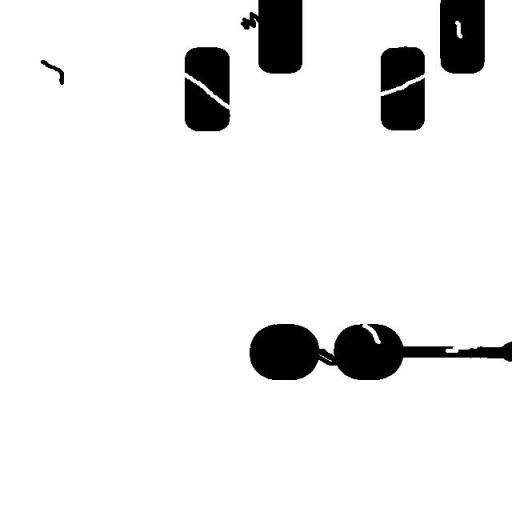copper: (33, 52, 71, 92)
mousebite: (354, 316, 388, 351), (438, 336, 484, 360)
open: (176, 64, 258, 126), (367, 66, 436, 103)
pin-hole: (447, 12, 470, 46)
short: (302, 338, 356, 373)
spur: (233, 4, 269, 37)
